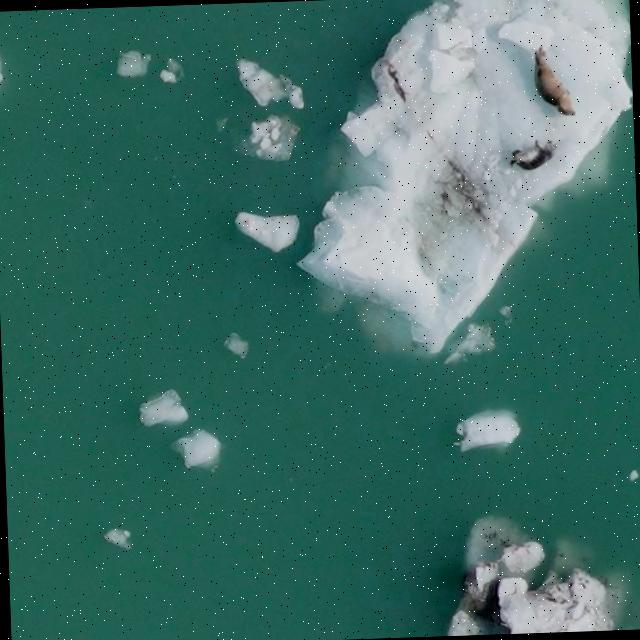seal: (518, 44, 582, 125), (504, 133, 562, 177)
